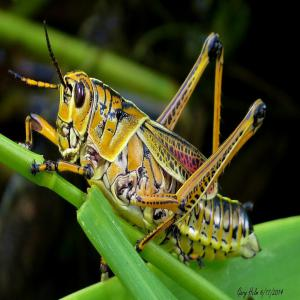locust: (27, 25, 270, 268)
